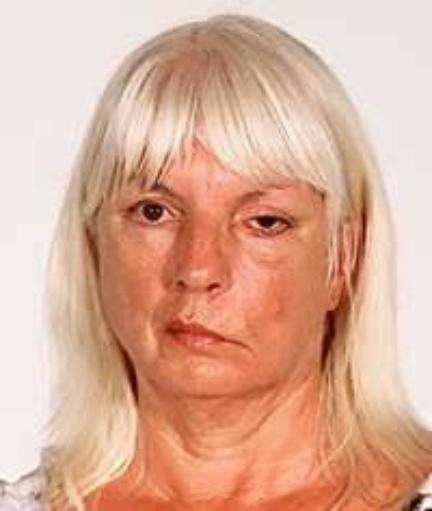left_eye: (239, 214, 299, 242)
left_lip_corner: (235, 338, 258, 360)
right_eye: (129, 202, 183, 229)
right_lip_corner: (160, 320, 182, 344)
